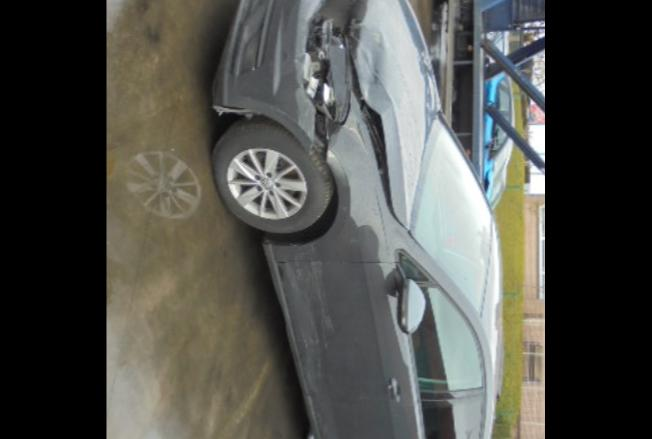Broken part: (344, 0, 440, 228), (214, 0, 332, 162), (306, 18, 348, 122)
Dent: (324, 122, 344, 154)
Missing part: (316, 0, 359, 32)
Paint chip: (296, 282, 344, 439)
Scratch: (304, 242, 337, 338), (276, 247, 308, 306), (300, 326, 312, 386), (310, 318, 322, 376), (348, 124, 368, 154), (316, 408, 330, 438), (352, 396, 362, 436), (320, 326, 330, 360), (318, 374, 324, 400)
